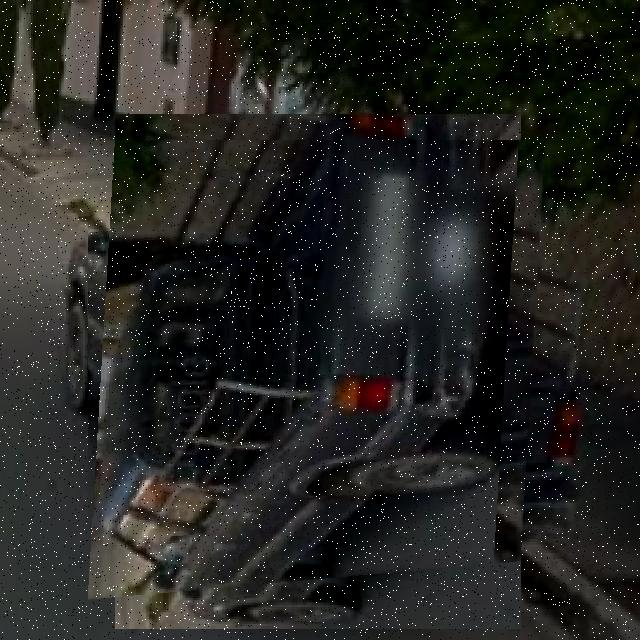car: (89, 141, 549, 603)
